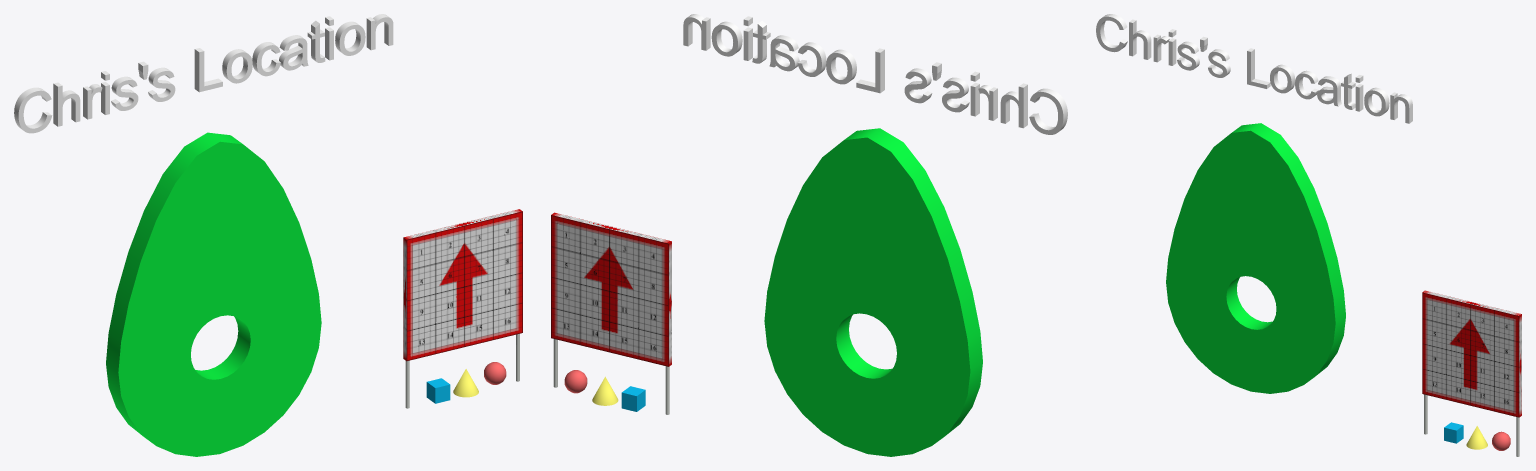
Rendered from asset.gltf.
The picture shows the model from 3 angles, left to right: view 1: azimuth 30°, elevation 25°; view 2: azimuth 150°, elevation 25°; view 3: azimuth 330°, elevation 25°; orthographic projection. The views are drawn at different scales.
Parts seen in each view (by area): view 1: Circle001, Box002, Text001, Box001; view 2: Circle001, Box002, Text001, Box001; view 3: Circle001, Box002, Text001.
Part boxes in pixels (bbox=[...]): Circle001: bbox=[106, 132, 321, 456]; Box002: bbox=[403, 209, 522, 361]; Text001: bbox=[14, 14, 393, 133]; Box001: bbox=[426, 378, 450, 403]; Circle001: bbox=[764, 128, 982, 456]; Box002: bbox=[551, 212, 671, 366]; Text001: bbox=[683, 14, 1067, 134]; Box001: bbox=[621, 386, 645, 411]; Circle001: bbox=[1166, 123, 1345, 393]; Box002: bbox=[1422, 290, 1521, 417]; Text001: bbox=[1096, 14, 1412, 123].
Bounding box in the file's own units: 2056 × 1594 × 134.
Materials: 8 (1 with a texture image).
